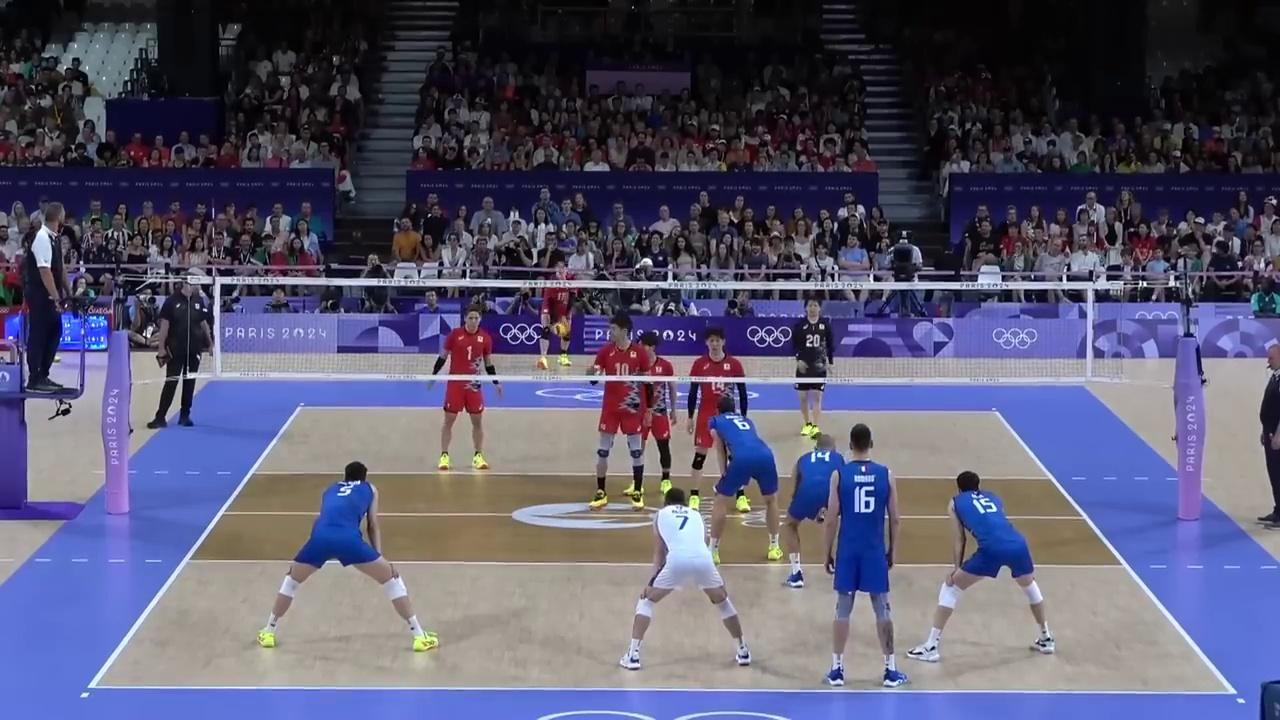ball: (550, 322, 567, 335)
